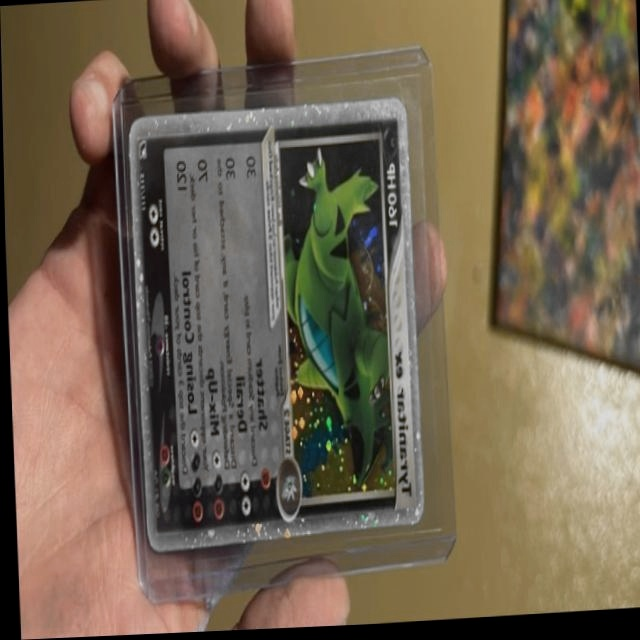card: (126, 98, 421, 556)
